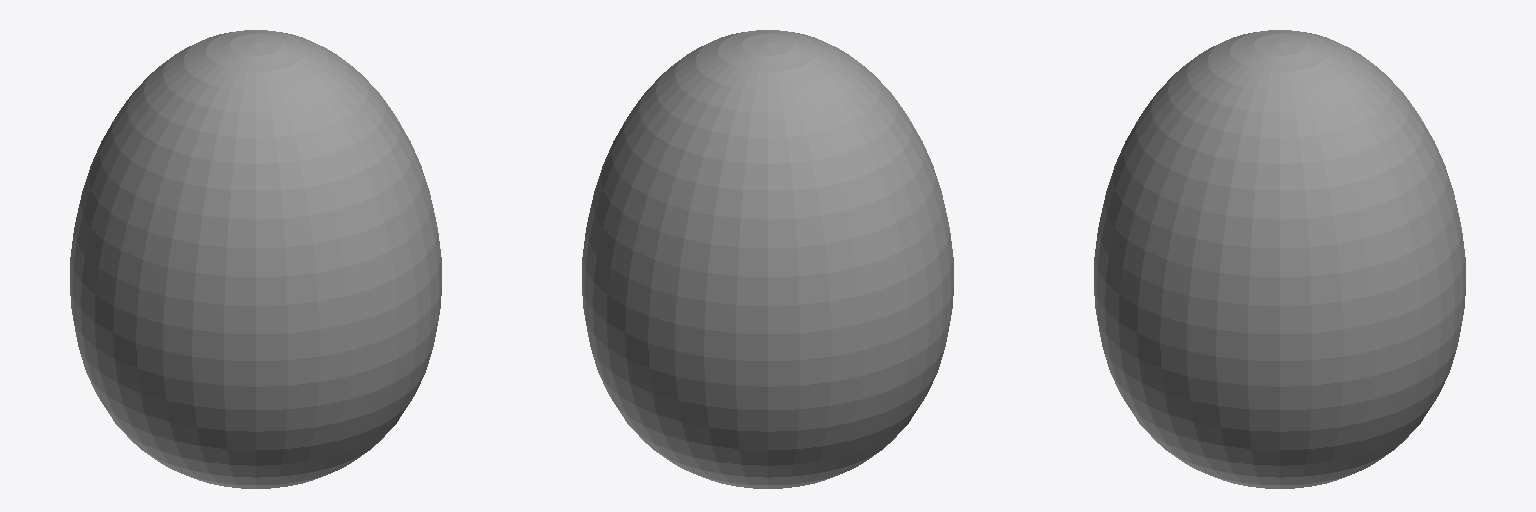
File: egg.obj
3 renders of one model, left to right at view 1: azimuth 30°, elevation 25°; view 2: azimuth 150°, elevation 25°; view 3: azimuth 270°, elevation 25°, orthographic.
Parts seen in each view (by area): view 1: BezierCircle_Mesh; view 2: BezierCircle_Mesh; view 3: BezierCircle_Mesh.
Boxes of the visible parts, box(x1,y1,x2,y2) form: BezierCircle_Mesh: box(70, 30, 441, 488); BezierCircle_Mesh: box(582, 30, 953, 488); BezierCircle_Mesh: box(1094, 30, 1465, 488).
Bounding box in the file's own units: 0.7913 × 1 × 0.7913.